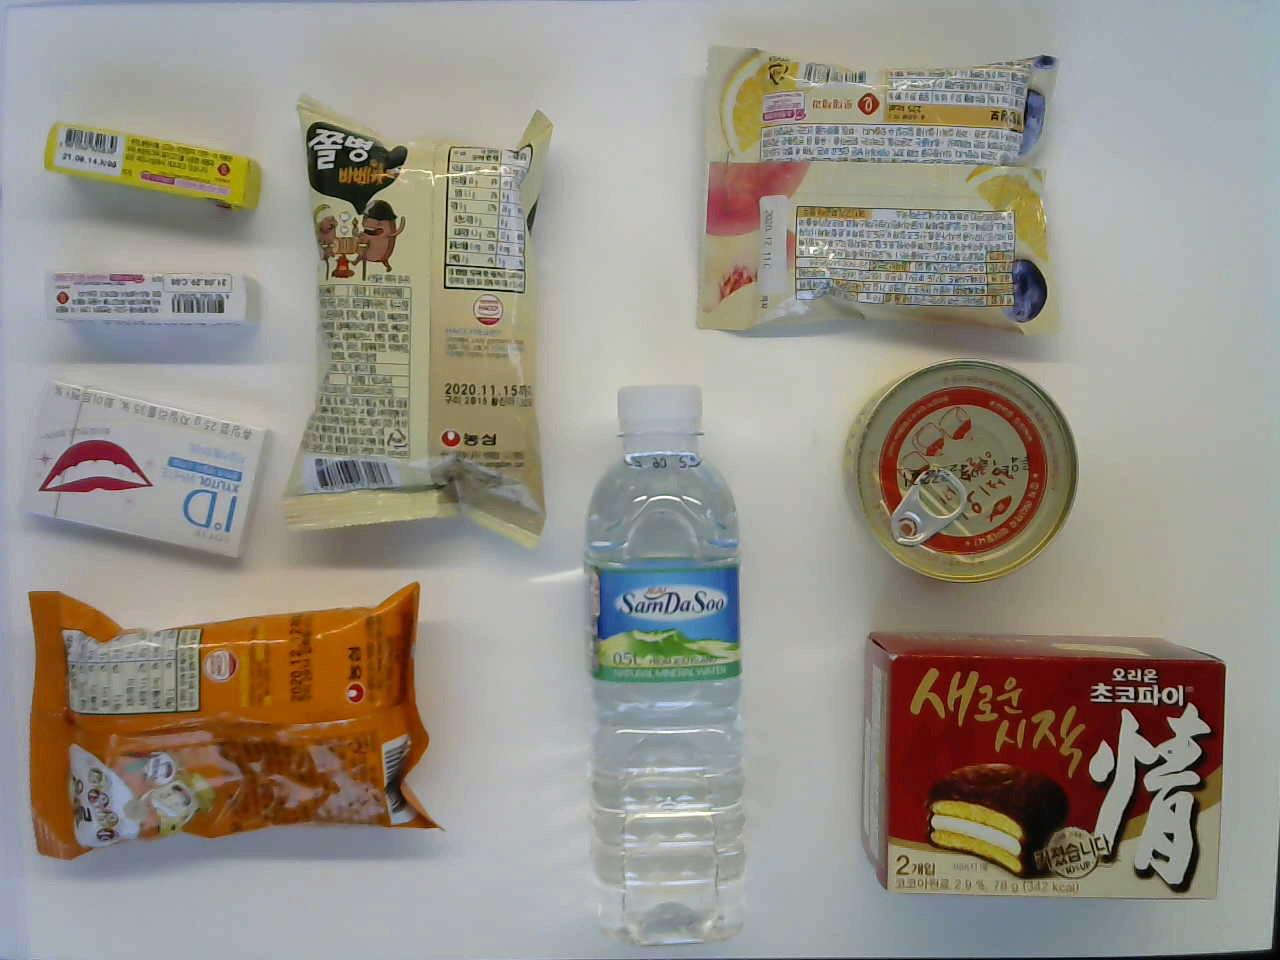ID_gum: (13, 378, 275, 572)
chocopie: (848, 623, 1234, 925)
gumi_gumi: (680, 41, 1068, 335)
jjolbyung_noodle: (20, 582, 451, 859)
jjolbyung_ori: (277, 90, 558, 547)
juicyfresh: (35, 112, 258, 221)
samdasu: (579, 377, 759, 957)
spearmint: (35, 263, 264, 341)
tuna: (830, 354, 1089, 600)
